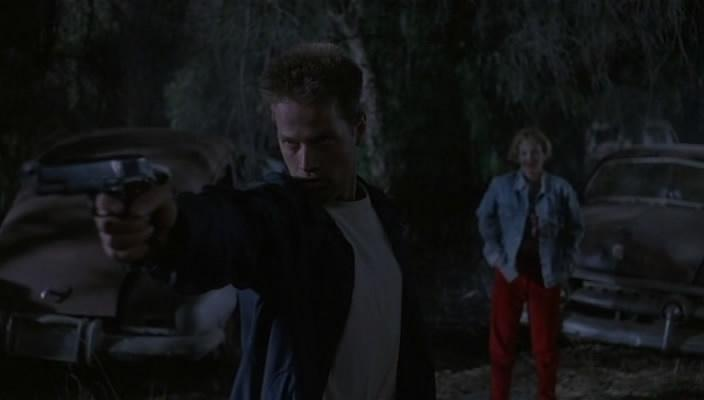gun: (20, 151, 168, 270)
